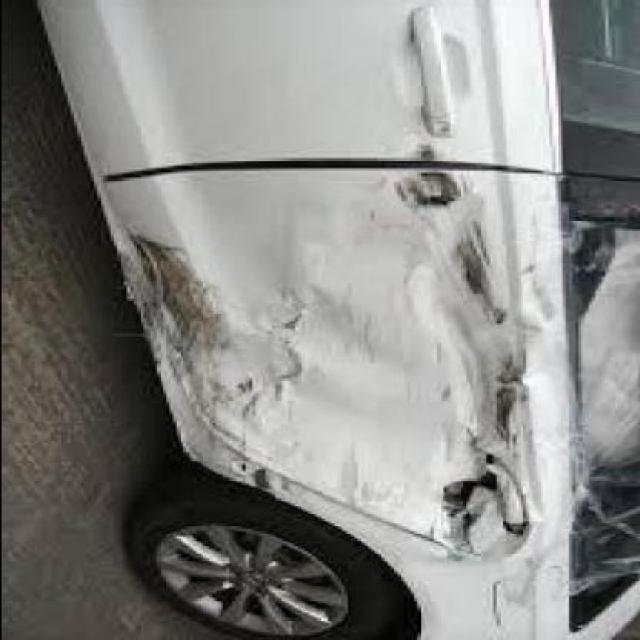damage: (96, 133, 640, 623)
